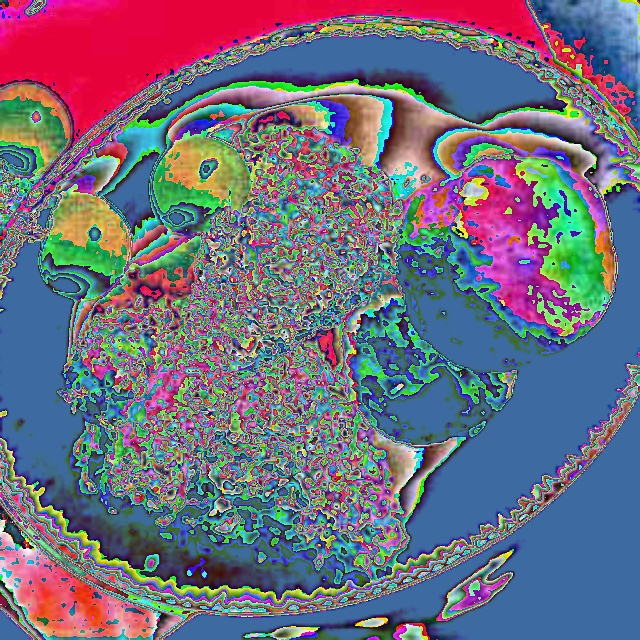background: (0, 80, 620, 589)
